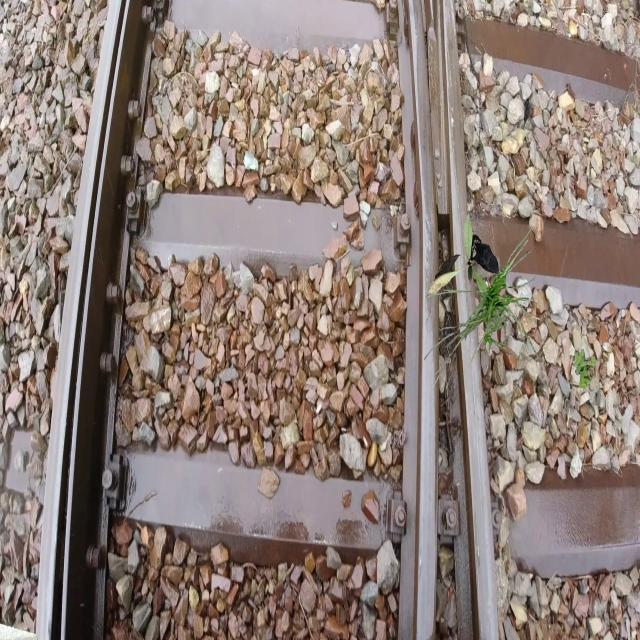Plant: (424, 228, 542, 392), (428, 213, 500, 312), (573, 349, 597, 390)
